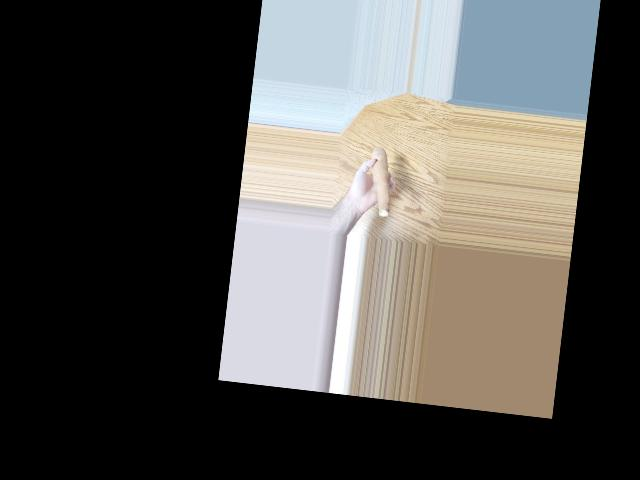sweet_potato: (369, 143, 395, 219)
